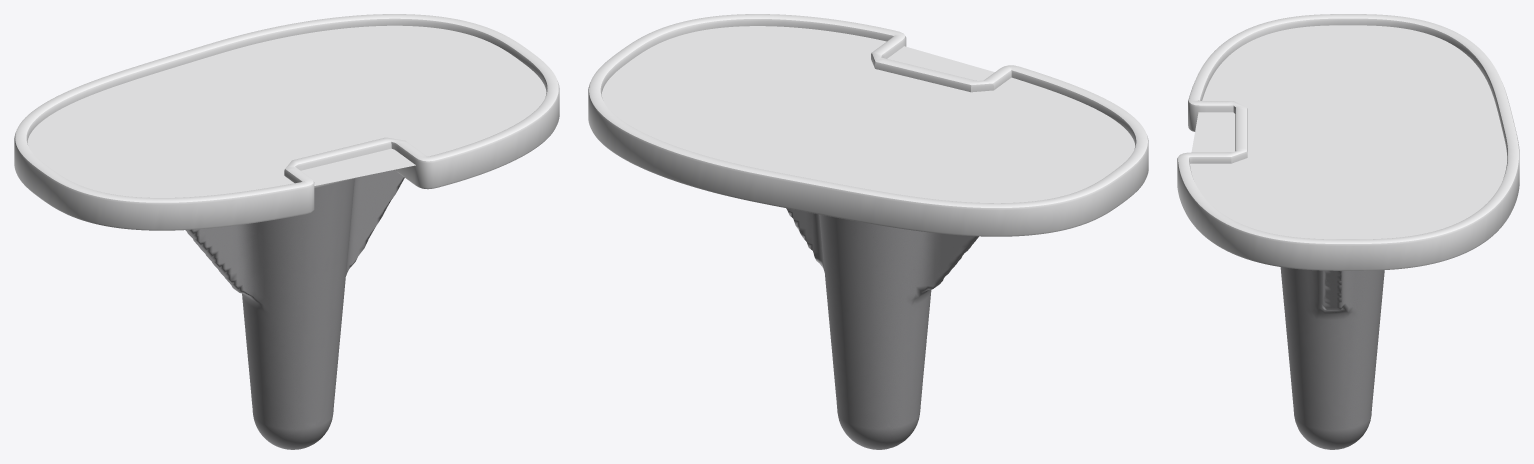
File: tray_mirai_lod0.glb
The picture shows the model from 3 angles, left to right: view 1: azimuth 30°, elevation 25°; view 2: azimuth 150°, elevation 25°; view 3: azimuth 270°, elevation 25°; orthographic projection. The views are drawn at different scales.
Visible parts, largest first — view 1: tray_mirai; view 2: tray_mirai; view 3: tray_mirai.
Boxes of the visible parts, x1,y1,x2,y2 form: tray_mirai: [14, 14, 559, 449]; tray_mirai: [588, 14, 1148, 449]; tray_mirai: [1177, 14, 1519, 449].
Bounding box in the file's own units: 0.07 × 0.045 × 0.0439.
2 materials, 1 textured.
